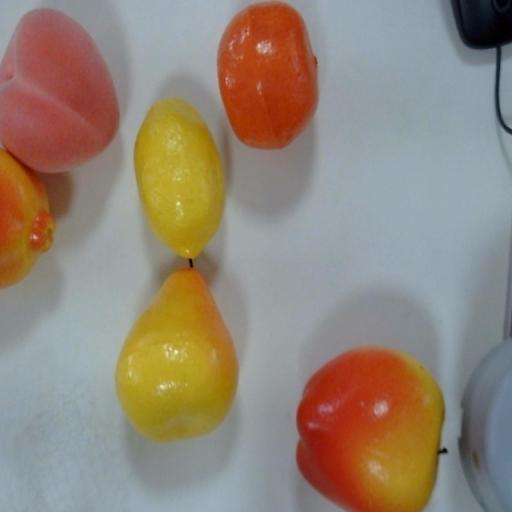Ripe: (292, 340, 452, 512), (113, 257, 242, 452), (2, 4, 122, 178), (130, 94, 228, 266), (214, 1, 324, 153), (0, 147, 57, 292)
